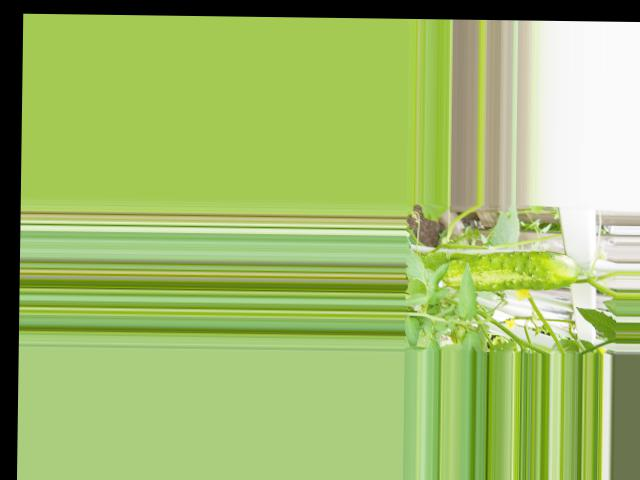cucumber: (443, 249, 580, 290)
